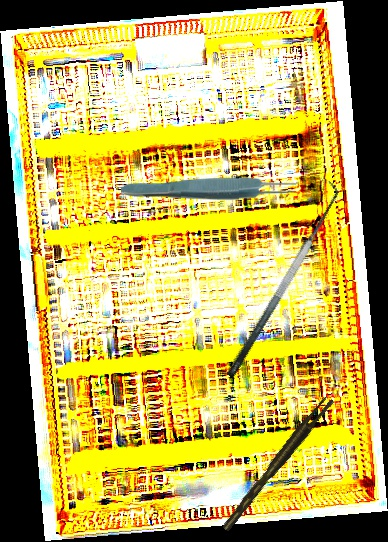Spatula Surgical: (210, 179, 350, 379)
Tissue Forceps: (215, 394, 339, 532), (120, 175, 300, 203)
